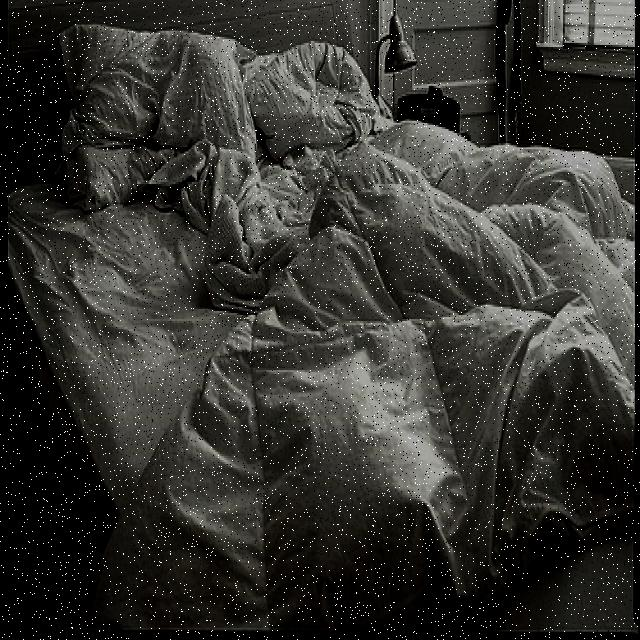bed: (13, 4, 640, 597)
